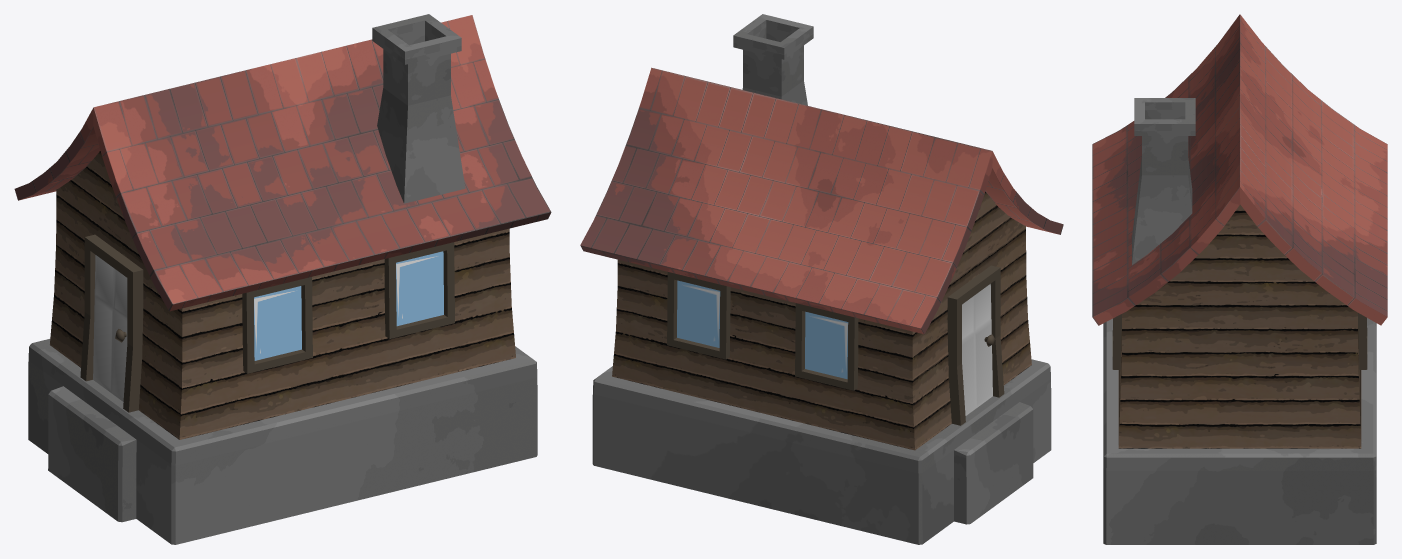
Rendered from spawner-1.fbx.
The picture shows the model from 3 angles, left to right: view 1: azimuth 30°, elevation 25°; view 2: azimuth 150°, elevation 25°; view 3: azimuth 270°, elevation 25°; orthographic projection. The views are drawn at different scales.
Visible parts, largest first — view 1: Spawner-1, Spawner-1-roof, Spawner-1-chimney, Spawner-1-window, Spawner-1-door; view 2: Spawner-1, Spawner-1-roof, Spawner-1-window, Spawner-1-door, Spawner-1-chimney; view 3: Spawner-1, Spawner-1-roof, Spawner-1-chimney, Spawner-1-window.
Part boxes in pixels (box(x1,y1,x2,y2)): Spawner-1: box(28, 151, 537, 544); Spawner-1-roof: box(14, 15, 551, 311); Spawner-1-chimney: box(372, 14, 465, 203); Spawner-1-window: box(242, 242, 454, 373); Spawner-1-door: box(80, 234, 143, 412); Spawner-1: box(592, 192, 1051, 544); Spawner-1-roof: box(580, 67, 1063, 334); Spawner-1-window: box(667, 272, 858, 390); Spawner-1-door: box(947, 265, 1004, 425); Spawner-1-chimney: box(733, 14, 813, 105); Spawner-1: box(1103, 204, 1376, 544); Spawner-1-roof: box(1092, 14, 1387, 325); Spawner-1-chimney: box(1132, 98, 1195, 264); Spawner-1-window: box(1112, 313, 1367, 369).
Size of the model in its own units: 476 by 492 by 335.
